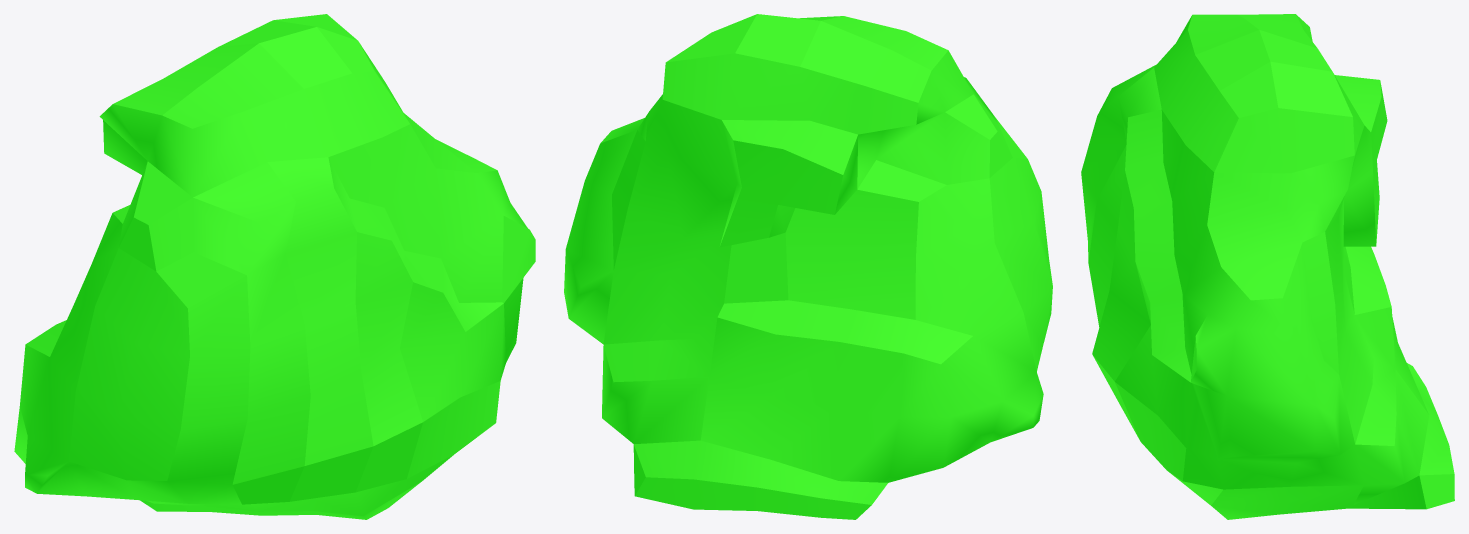
Rendered from rock_green.glb.
3 renders of one model, left to right at view 1: azimuth 30°, elevation 25°; view 2: azimuth 150°, elevation 25°; view 3: azimuth 270°, elevation 25°, orthographic. The views are drawn at different scales.
Parts seen in each view (by area): view 1: rock.017; view 2: rock.017; view 3: rock.017.
Boxes of the visible parts, bbox=[...] form: rock.017: bbox=[14, 14, 535, 519]; rock.017: bbox=[564, 14, 1052, 519]; rock.017: bbox=[1081, 14, 1454, 519].
Size of the model in its own units: 6.17 by 5.98 by 4.5.
